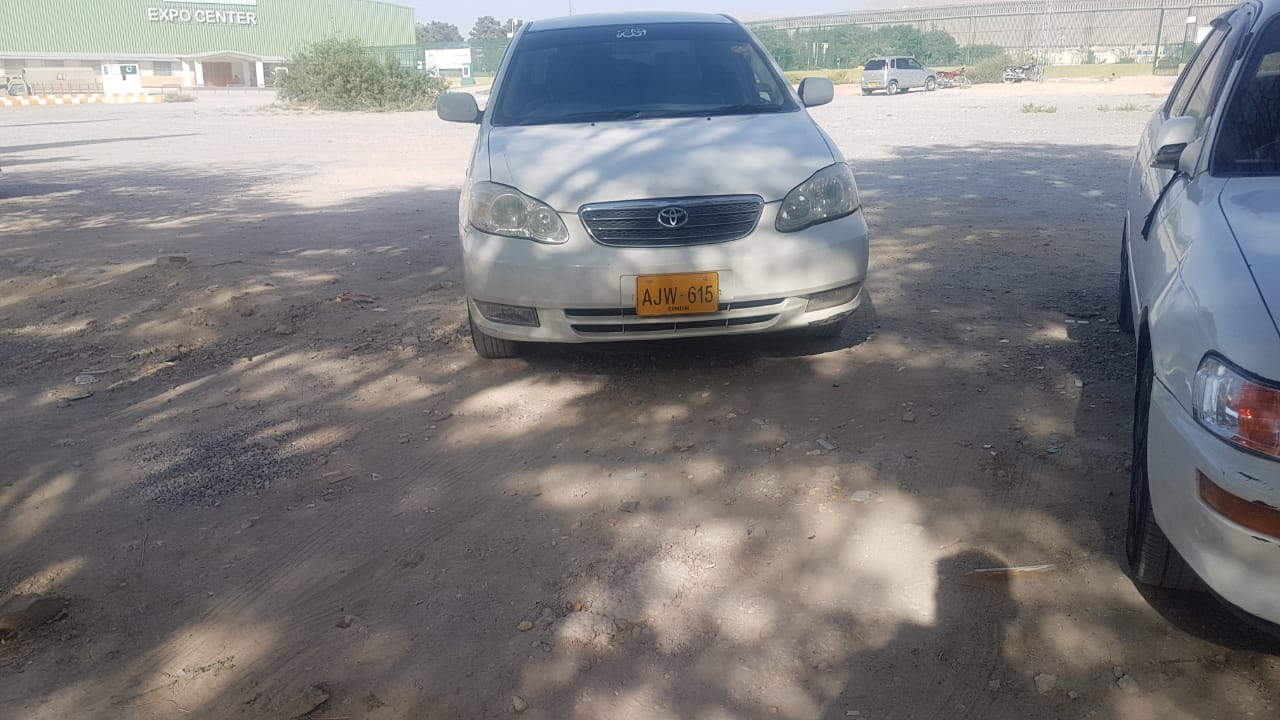license plate: (635, 275, 719, 316)
